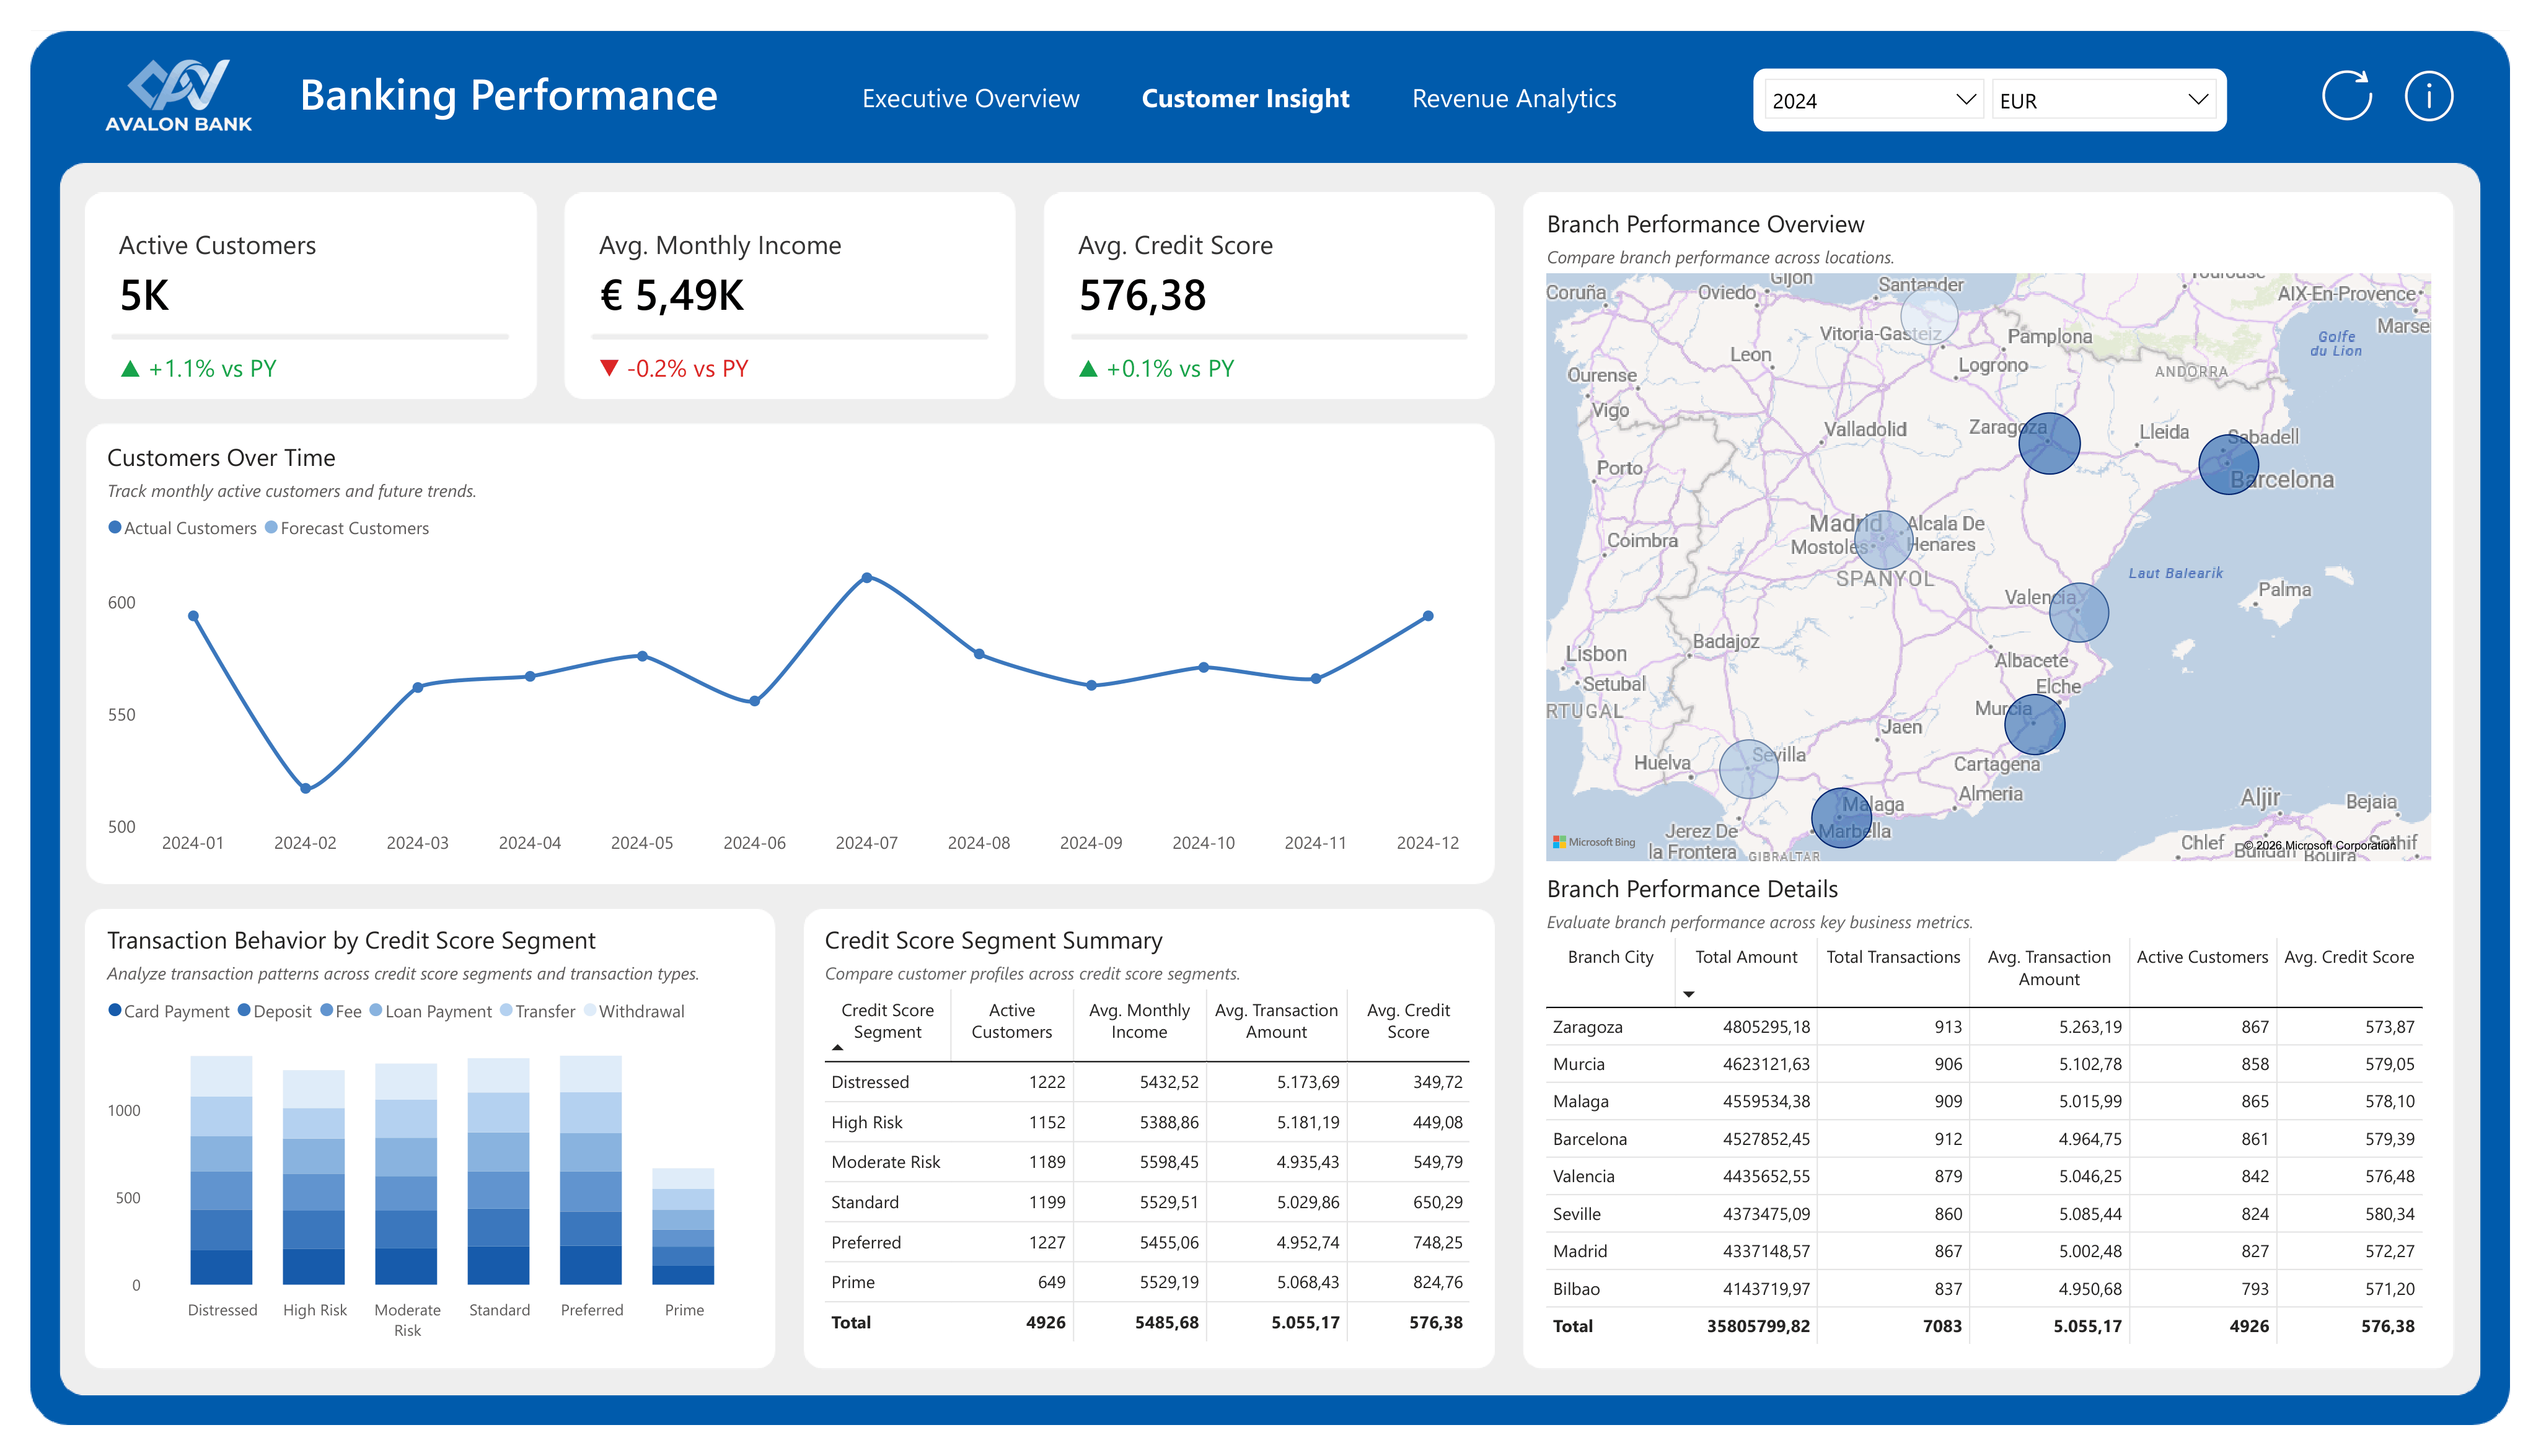

This screenshot's page, from the dashboard's own definition file:
{"tool":"powerbi","page":{"name":"Customer Insight","canvas":[1920,1080],"ordinal":1},"visuals":[{"type":"shape","box":[1333.7,29,367.4,48.9],"z":0},{"type":"cardVisual","fields":{"Data":[".Measures.Active Customers"]},"box":[39,123.4,354.9,162.3],"z":1000},{"type":"cardVisual","fields":{"Data":[".Measures.Avg Credit Score"]},"box":[781.8,123.1,354.7,162.9],"z":2000},{"type":"cardVisual","fields":{"Data":[".Measures.Avg Monthly Income Display"]},"box":[410.8,123.1,354.7,162.9],"z":3000},{"type":"cardVisual","fields":{"Data":[".Measures.Average Transaction YoY Label"]},"box":[781.8,217.2,354.7,85.1],"z":4000},{"type":"cardVisual","fields":{"Data":[".Measures.Active Customers YoY Label"]},"box":[39.8,217.2,354.7,85.1],"z":5000},{"type":"slicer","fields":{"Values":["Dim_Currency.Currency"]},"box":[1509.3,27.1,193.6,48.9],"z":6000},{"type":"slicer","fields":{"Values":["Dim_Calendar.Year"]},"box":[1332.7,26.7,190,48],"z":7000},{"type":"map","title":"Branch Performance Overview","fields":{"Category":["Fact_Transactions.BranchCity"],"Size":[".Measures.Total Amount"]},"box":[1169,135.7,694.9,512.1],"z":8000},{"type":"image","box":[25.3,0,177.3,106.8],"z":9000},{"type":"cardVisual","fields":{"Data":[".Measures.Avg Monthly Income YoY Label"]},"box":[410.8,217.2,354.7,85.1],"z":10000},{"type":"pivotTable","title":"Branch Performance Details","fields":{"Rows":["Fact_Transactions.BranchCity"],"Values":[".Measures.Total Amount",".Measures.Total Transactions",".Measures.Avg Transaction Amount",".Measures.Active Customers",".Measures.Avg Credit Score"]},"box":[1169,651.5,694.9,376.4],"z":11000},{"type":"pivotTable","title":"Credit Score Segment Summary","fields":{"Rows":["Fact_Transactions.Credit Score Cluster"],"Values":[".Measures.Active Customers",".Measures.Avg Monthly Income",".Measures.Average Transaction",".Measures.Avg Credit Score"]},"box":[609.9,691.3,532,338.4],"z":12000},{"type":"columnChart","title":"Transaction Behavior by Credit Score Segment","fields":{"Y":[".Measures.Total Transactions"],"Category":["Fact_Transactions.Credit Score Segment"],"Series":["Fact_Transactions.TransactionType"]},"box":[54.3,691.3,510.3,331.2],"z":13000},{"type":"lineChart","title":"Customers Over Time","fields":{"Category":["Dim_Calendar.Year Month"],"Y":[".Measures.Actual Customers",".Measures.Forecast Customers"]},"box":[54.3,316.7,1067.7,331.2],"z":14000},{"type":"shape","box":[633.6,27.1,188.2,47.1],"z":15000},{"type":"shape","box":[846.6,27.1,188.2,47.1],"z":16000},{"type":"shape","box":[1054.8,27.1,188.2,47.1],"z":17000},{"type":"textbox","title":"Banking Performance","box":[202.7,25.3,394.5,50.7],"z":18000},{"type":"image","box":[1836.8,18.1,41.6,65.1],"z":19000},{"type":"image","box":[1774,16,40,68],"z":20000}]}

Visuals, with their boxes on the page's 1920x1080 design canvas (x1, y1, x2, y2). These are canvas units, not pixel positions in the 2541x1456 screenshot, which may show the page scaled, cropped or inside an application window:
shape: box=[1334, 29, 1701, 78]
cardVisual - .Measures.Active Customers: box=[39, 123, 394, 286]
cardVisual - .Measures.Avg Credit Score: box=[782, 123, 1136, 286]
cardVisual - .Measures.Avg Monthly Income Display: box=[411, 123, 766, 286]
cardVisual - .Measures.Average Transaction YoY Label: box=[782, 217, 1136, 302]
cardVisual - .Measures.Active Customers YoY Label: box=[40, 217, 394, 302]
slicer - Dim_Currency.Currency: box=[1509, 27, 1703, 76]
slicer - Dim_Calendar.Year: box=[1333, 27, 1523, 75]
"Branch Performance Overview" map: box=[1169, 136, 1864, 648]
image: box=[25, 0, 203, 107]
cardVisual - .Measures.Avg Monthly Income YoY Label: box=[411, 217, 766, 302]
"Branch Performance Details" pivotTable: box=[1169, 652, 1864, 1028]
"Credit Score Segment Summary" pivotTable: box=[610, 691, 1142, 1030]
"Transaction Behavior by Credit Score Segment" columnChart: box=[54, 691, 565, 1022]
"Customers Over Time" lineChart: box=[54, 317, 1122, 648]
shape: box=[634, 27, 822, 74]
shape: box=[847, 27, 1035, 74]
shape: box=[1055, 27, 1243, 74]
"Banking Performance" textbox: box=[203, 25, 597, 76]
image: box=[1837, 18, 1878, 83]
image: box=[1774, 16, 1814, 84]
